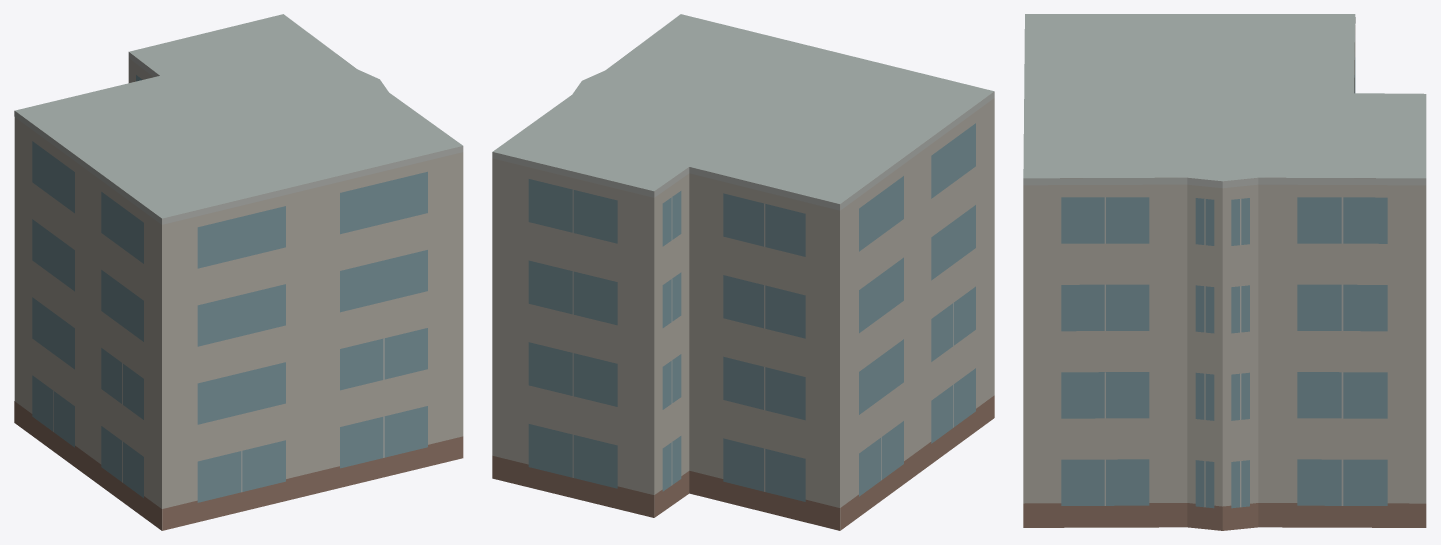
File: survey-upis-32551910.glb
The picture shows the model from 3 angles, left to right: view 1: azimuth 30°, elevation 25°; view 2: azimuth 150°, elevation 25°; view 3: azimuth 270°, elevation 25°; orthographic projection. The views are drawn at different scales.
Visible parts, largest first — view 1: survey-upis-32551910.tmp; view 2: survey-upis-32551910.tmp; view 3: survey-upis-32551910.tmp.
Part boxes in pixels (left/top/right/bottom): survey-upis-32551910.tmp: left=14, top=14, right=463, bottom=530; survey-upis-32551910.tmp: left=492, top=14, right=994, bottom=530; survey-upis-32551910.tmp: left=1023, top=14, right=1426, bottom=530.
Size of the model in its own units: 12.53 by 12.2 by 12.76.
